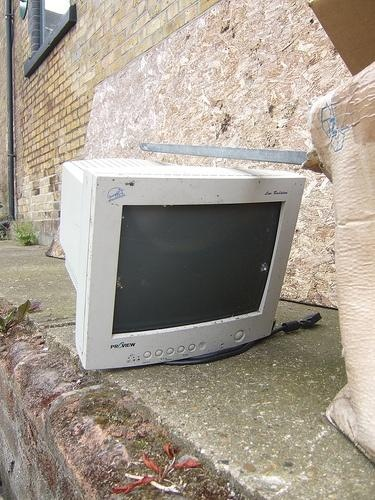tvmonitor: (61, 160, 307, 362)
